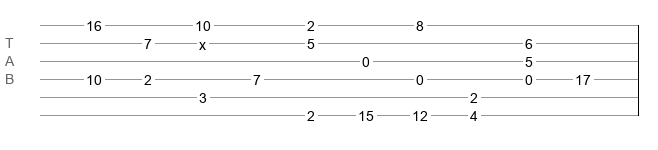0: (362, 54, 370, 64), (416, 72, 424, 82), (525, 72, 533, 82)
10: (86, 72, 102, 82), (195, 18, 211, 28)
12: (412, 108, 428, 118)
15: (358, 108, 374, 118)
16: (86, 18, 102, 28)
17: (575, 72, 591, 82)
2: (144, 72, 152, 82), (307, 108, 315, 118), (307, 18, 315, 28), (470, 90, 478, 100)
3: (199, 90, 207, 100)
4: (470, 108, 478, 118)
5: (307, 36, 315, 46), (525, 54, 533, 64)
6: (525, 36, 533, 46)
7: (144, 36, 152, 46), (253, 72, 261, 82)
8: (416, 18, 424, 28)
x: (199, 37, 206, 45)
